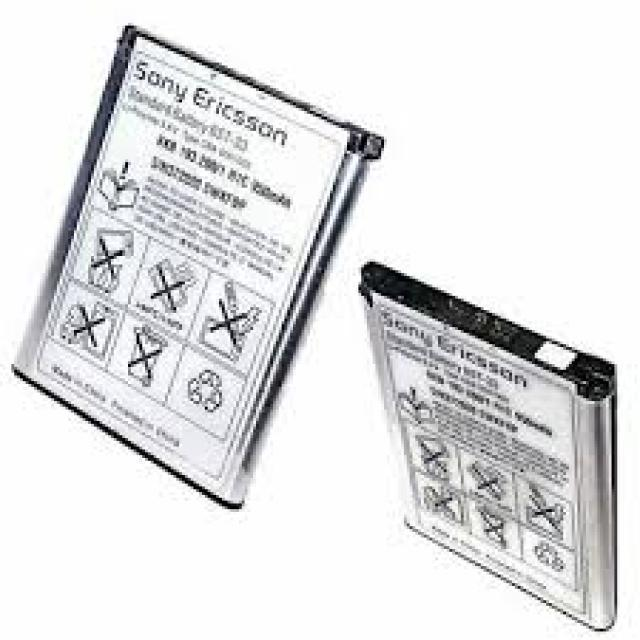non-organic waste: (11, 25, 384, 509), (351, 260, 624, 629)
